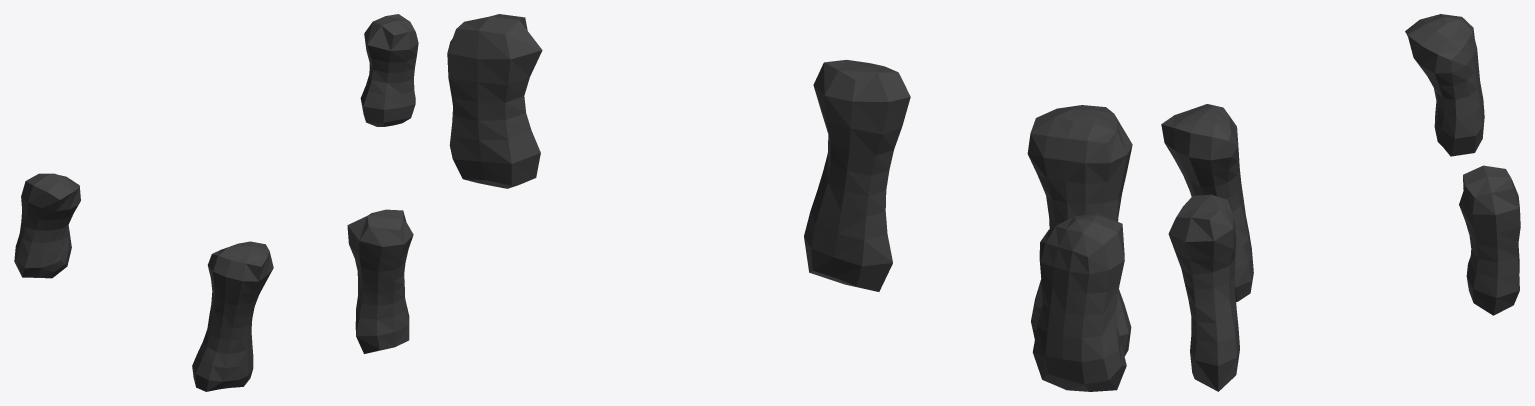
3 views of the same model, side by side, from view 1: azimuth 30°, elevation 25°; view 2: azimuth 150°, elevation 25°; view 3: azimuth 270°, elevation 25° (orthographic). The views are drawn at different scales.
Visible parts, largest first — view 1: P2s_R; view 2: P2s_R; view 3: P2s_R.
Part boxes in pixels (box(x1,y1,x2,y2)): P2s_R: box(14, 14, 418, 391); P2s_R: box(447, 14, 1132, 391); P2s_R: box(1161, 14, 1520, 391).
Bounding box in the file's own units: 2.95 × 1.54 × 1.75.
1 material, 1 textured.
